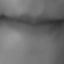Non-MouthFatigue: (1, 6, 63, 46)
